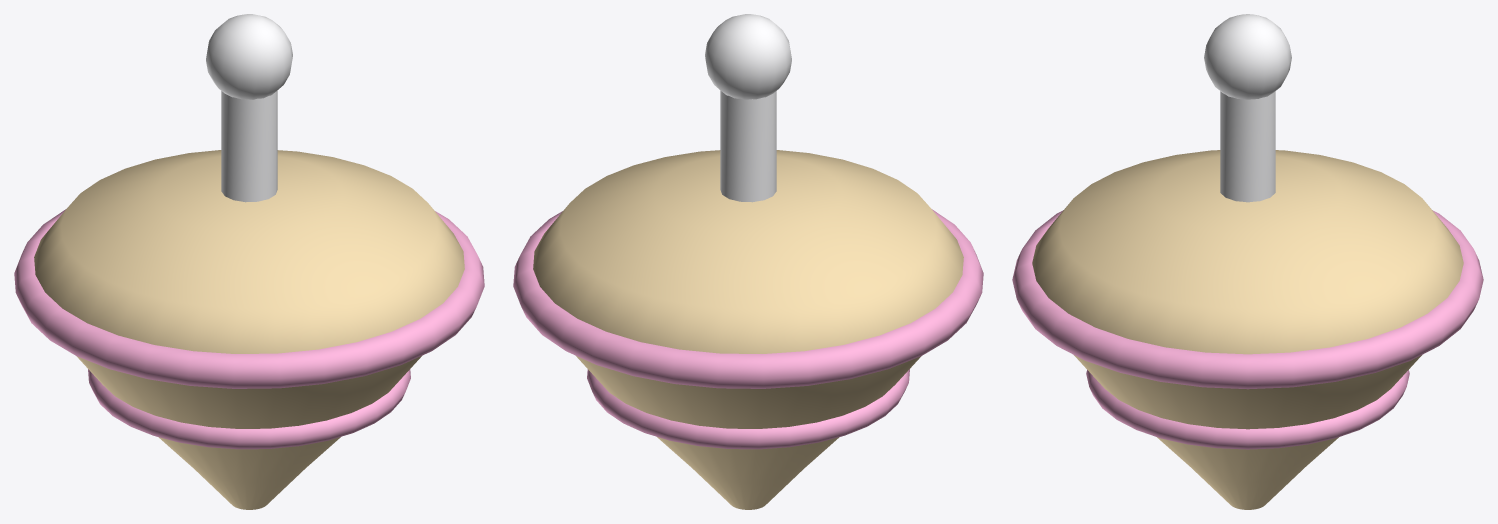
File: MessyMemoryTop.glb
The picture shows the model from 3 angles, left to right: view 1: azimuth 30°, elevation 25°; view 2: azimuth 150°, elevation 25°; view 3: azimuth 270°, elevation 25°; orthographic projection.
Visible parts, largest first — view 1: Body, Band, Handle; view 2: Body, Band, Handle; view 3: Body, Band, Handle.
Boxes of the visible parts, x1,y1,x2,y2 form: Body: (34, 150, 464, 509); Band: (14, 209, 484, 449); Handle: (206, 14, 292, 202); Body: (533, 150, 963, 509); Band: (513, 209, 983, 449); Handle: (705, 14, 791, 202); Body: (1032, 150, 1463, 509); Band: (1012, 210, 1483, 449); Handle: (1204, 14, 1291, 202).
Bounding box in the file's own units: 1.5 × 1.72 × 1.5.
